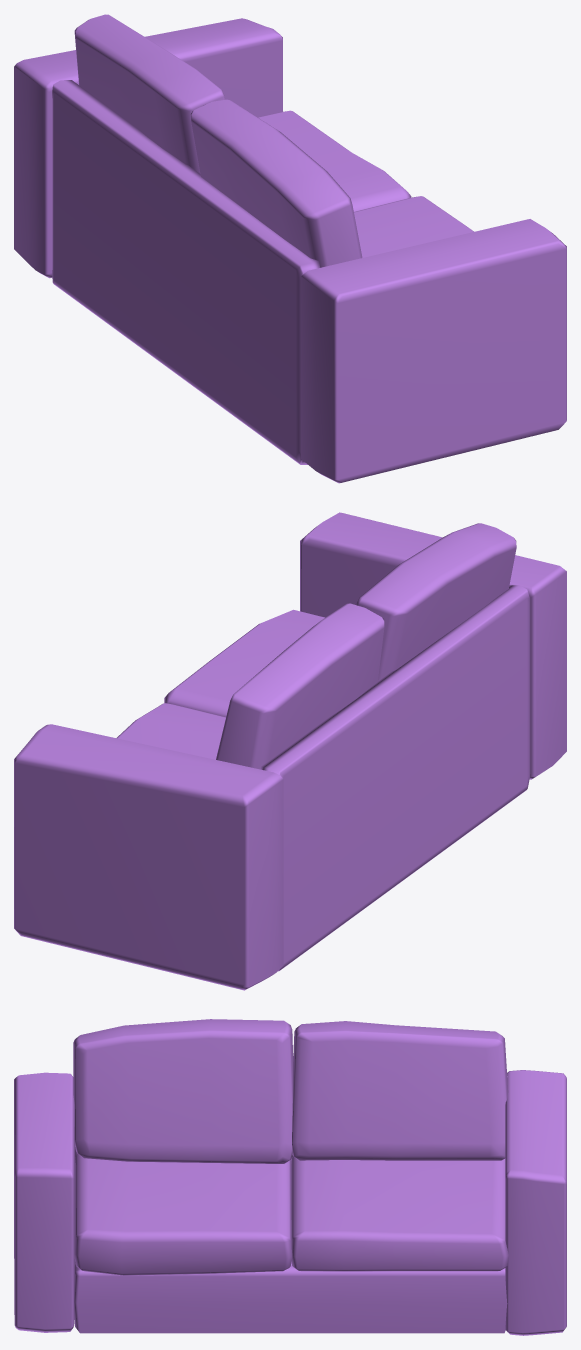
The model's file is Friday_AbbySofa.fbx.
3 views of the same model, one above another, from view 1: azimuth 30°, elevation 25°; view 2: azimuth 150°, elevation 25°; view 3: azimuth 270°, elevation 25° (orthographic). The views are drawn at different scales.
Visible parts, largest first — view 1: Sofa, Cushion_4, Cushion_5, Cushion_2, Cushion; view 2: Sofa, Cushion_5, Cushion_4, Cushion, Cushion_2; view 3: Sofa, Cushion_4, Cushion_5, Cushion, Cushion_2.
Part boxes in pixels (left/top/right/bottom): Sofa: left=14, top=18, right=566, bottom=483; Cushion_4: left=190, top=99, right=362, bottom=267; Cushion_5: left=74, top=14, right=225, bottom=173; Cushion_2: left=258, top=110, right=411, bottom=211; Cushion: left=354, top=196, right=473, bottom=257; Sofa: left=14, top=512, right=566, bottom=990; Cushion_5: left=216, top=603, right=384, bottom=769; Cushion_4: left=356, top=523, right=516, bottom=680; Cushion: left=164, top=609, right=324, bottom=717; Cushion_2: left=116, top=703, right=225, bottom=759; Sofa: left=14, top=1070, right=566, bottom=1335; Cushion_4: left=73, top=1019, right=293, bottom=1163; Cushion_5: left=292, top=1021, right=508, bottom=1160; Cushion: left=74, top=1154, right=292, bottom=1275; Cushion_2: left=291, top=1156, right=508, bottom=1271.
Bounding box in the file's own units: 38.53 × 39.36 × 84.56.
